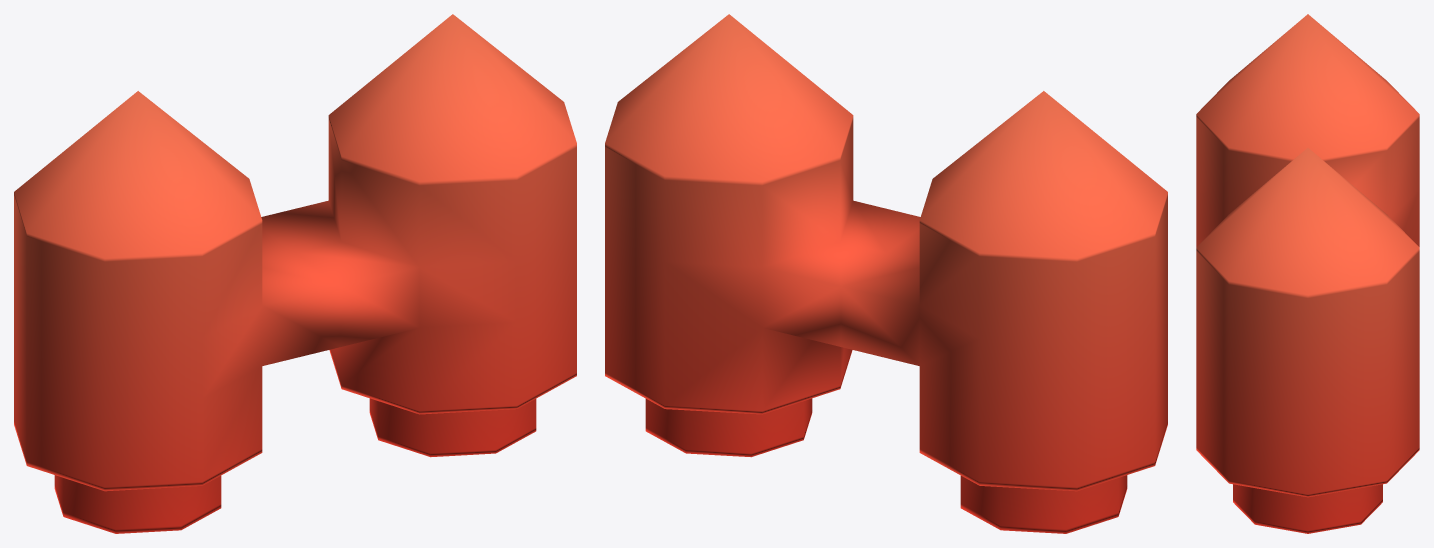
The model's file is Rocket.fbx.
3 renders of one model, left to right at view 1: azimuth 30°, elevation 25°; view 2: azimuth 150°, elevation 25°; view 3: azimuth 270°, elevation 25°, orthographic. The views are drawn at different scales.
Visible parts, largest first — view 1: Rocket; view 2: Rocket; view 3: Rocket.
Boxes of the visible parts, x1,y1,x2,y2 form: Rocket: (14,14,576,533); Rocket: (605,14,1167,533); Rocket: (1196,14,1419,533).
Bounding box in the file's own units: 4.83 × 3.5 × 2.
